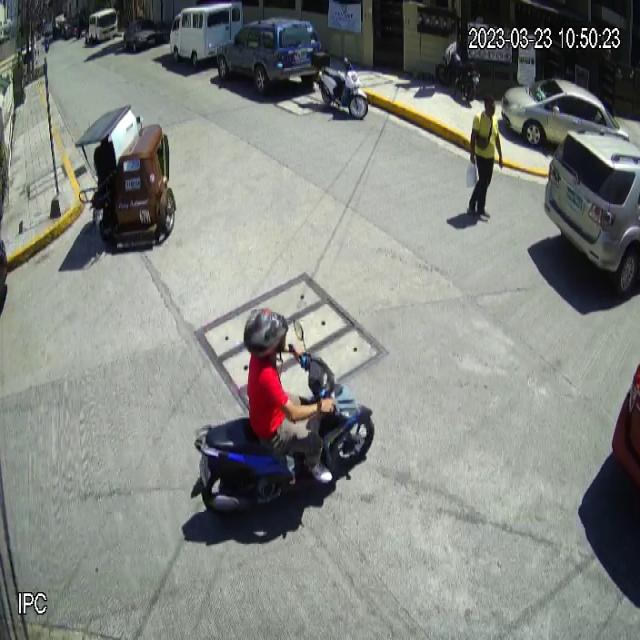Car: (541, 120, 640, 296), (501, 78, 630, 171), (216, 16, 323, 96)
Motorcycle: (192, 317, 376, 528), (309, 49, 369, 120)
Tricycle: (77, 103, 177, 248)
Van: (169, 0, 242, 69)
